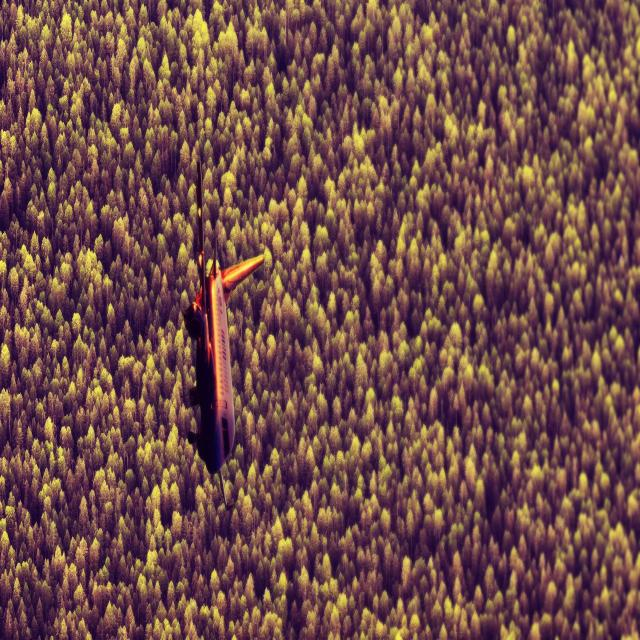airplane: (181, 158, 265, 506)
